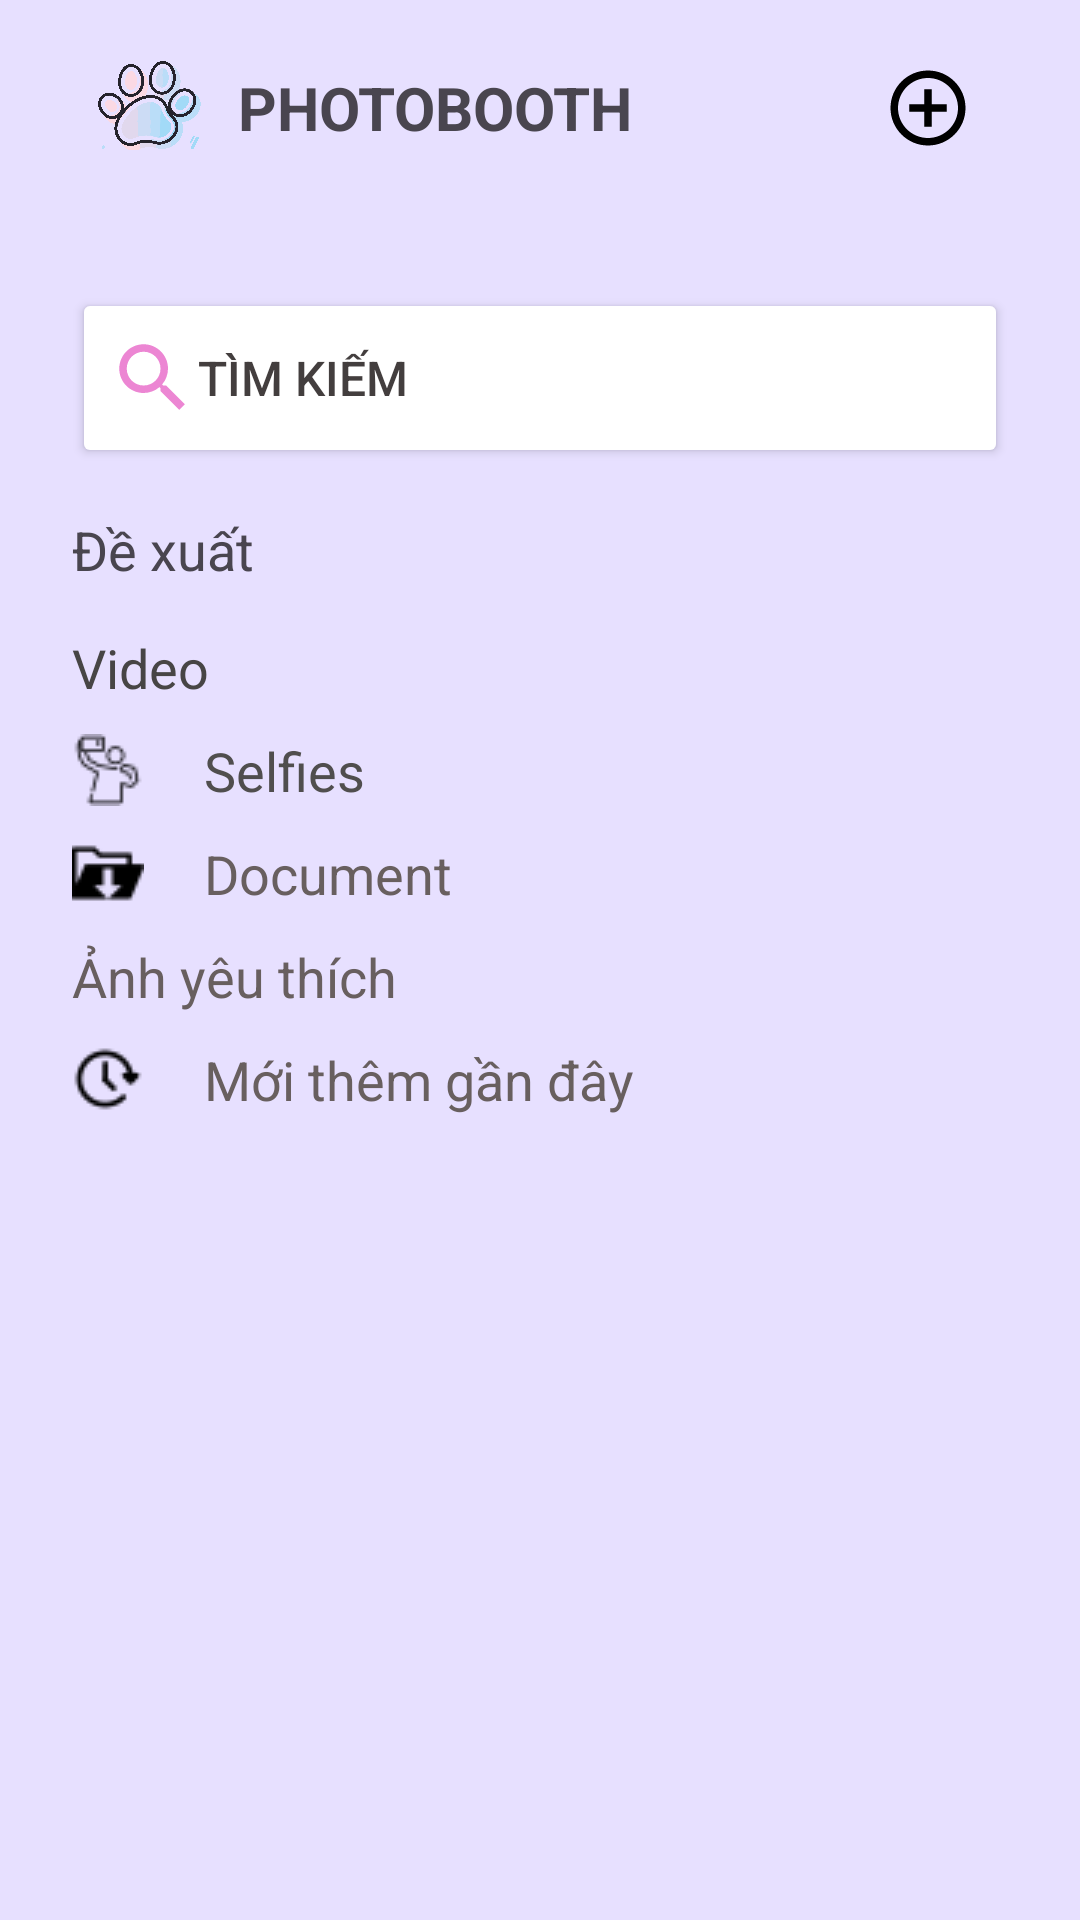

Locate icon controls on the screen. Image size 1080px x 1920px, boxes as {"x1": x1, "y1": y1, "x2": x2, "y2": y2}.
add circle: {"x1": 890, "y1": 70, "x2": 966, "y2": 146}
